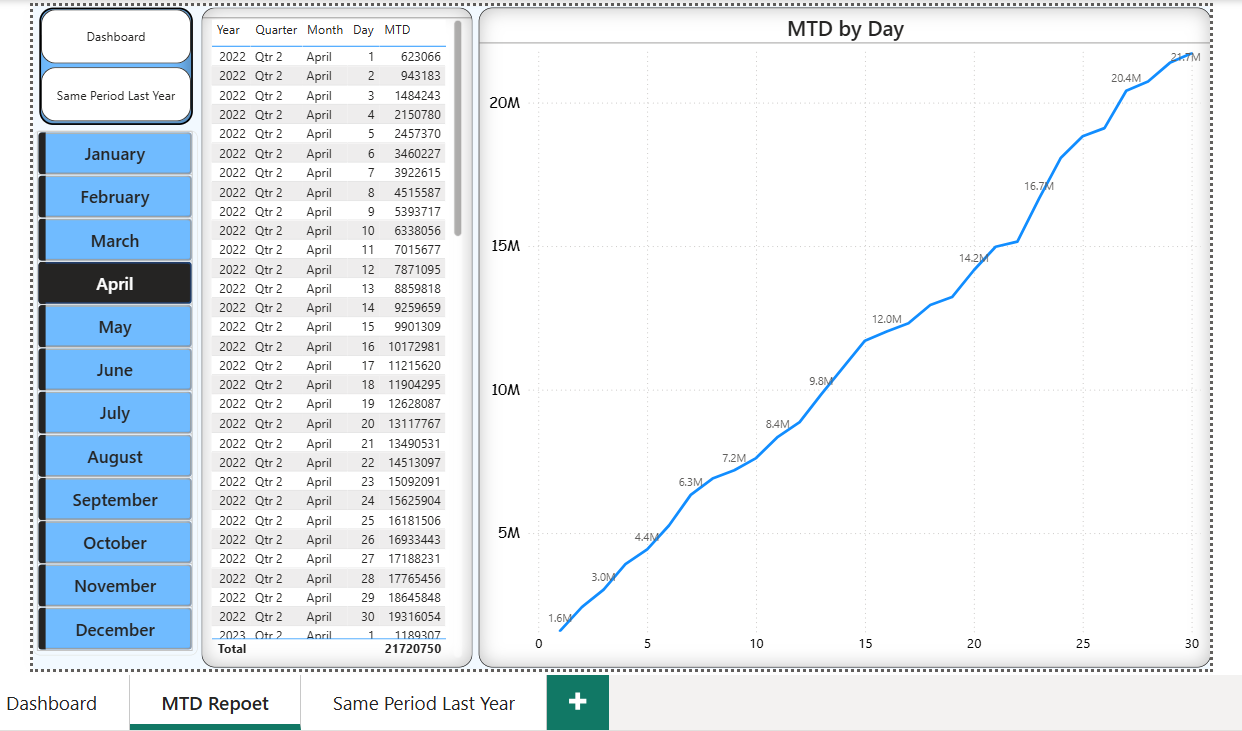

The page's visual inventory and layout, read from the dashboard file:
{"tool":"powerbi","page":{"name":"MTD Repoet","canvas":[1280,720],"ordinal":1},"visuals":[{"type":"lineChart","fields":{"Category":["custom calender.Date.Variation.Date Hierarchy.Year","custom calender.Date.Variation.Date Hierarchy.Quarter","custom calender.Date.Variation.Date Hierarchy.Month","custom calender.Date.Variation.Date Hierarchy.Day"],"Y":["mobile sales data.MTD"]},"box":[484.6,1.7,796.3,717.5],"z":0},{"type":"advancedSlicerVisual","fields":{"Values":["custom calender.Date.Variation.Date Hierarchy.Month"]},"box":[0,134.5,179.3,570.7],"z":1000},{"type":"pageNavigator","box":[6.9,1.7,167.2,127.6],"z":2000},{"type":"tableEx","fields":{"Values":["custom calender.Date.Variation.Date Hierarchy.Year","custom calender.Date.Variation.Date Hierarchy.Quarter","custom calender.Date.Variation.Date Hierarchy.Month","custom calender.Date.Variation.Date Hierarchy.Day","mobile sales data.MTD"]},"box":[183.2,1.7,294.5,717.5],"z":2001}]}

Visuals, with their boxes in screenshot pixels (x1, y1, x2, y2):
lineChart - custom calender.Date.Variation.Date Hierarchy.Year x custom calender.Date.Variation.Date Hierarchy.Quarter: [x1=473, y1=5, x2=1208, y2=667]
advancedSlicerVisual - custom calender.Date.Variation.Date Hierarchy.Month: [x1=26, y1=127, x2=191, y2=654]
pageNavigator: [x1=32, y1=5, x2=187, y2=123]
tableEx - custom calender.Date.Variation.Date Hierarchy.Year x custom calender.Date.Variation.Date Hierarchy.Quarter: [x1=195, y1=5, x2=467, y2=667]
